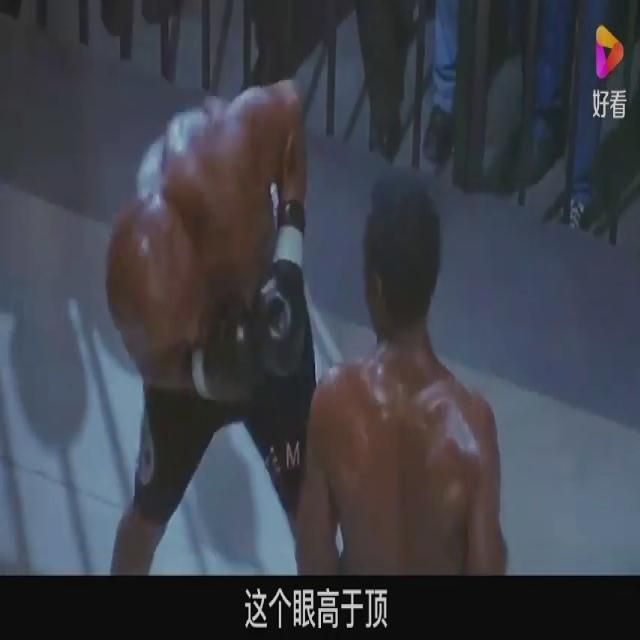fight: (106, 71, 506, 576)
